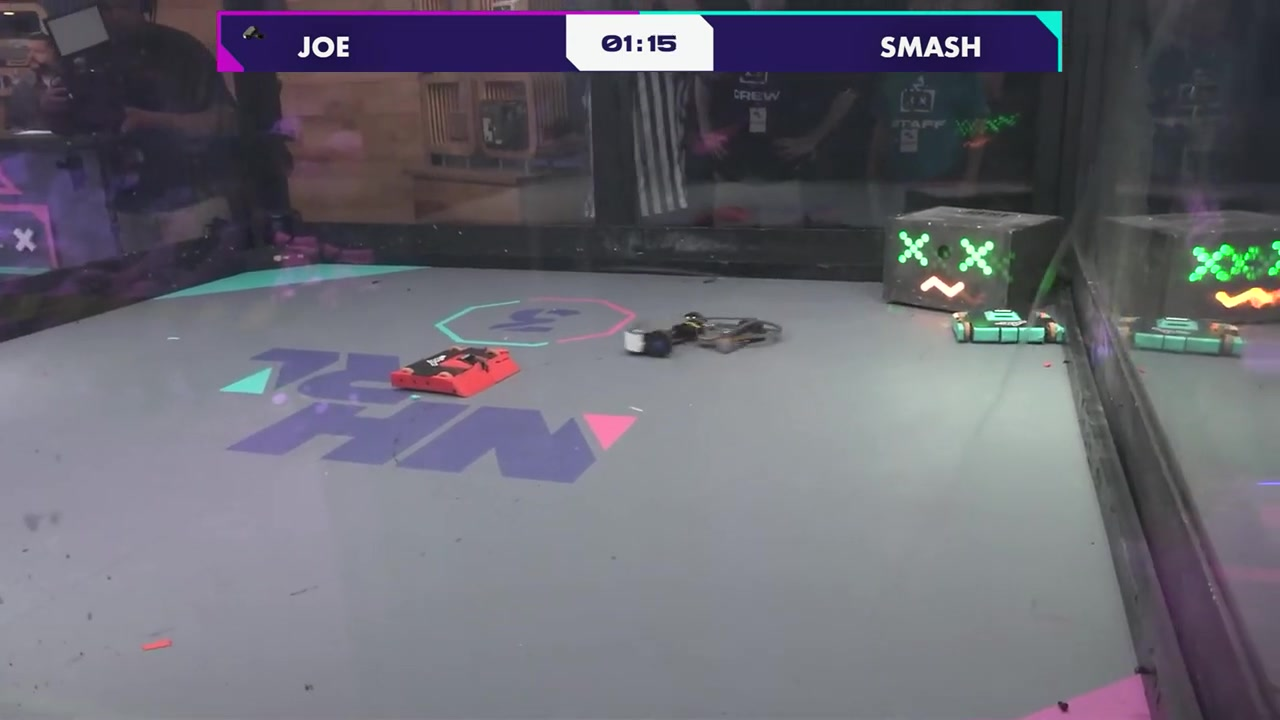combatbot: (388, 344, 523, 400), (624, 310, 786, 356), (1132, 316, 1247, 361), (949, 309, 1069, 349)
debris: (140, 633, 174, 653)
housebot: (881, 207, 1064, 316)
